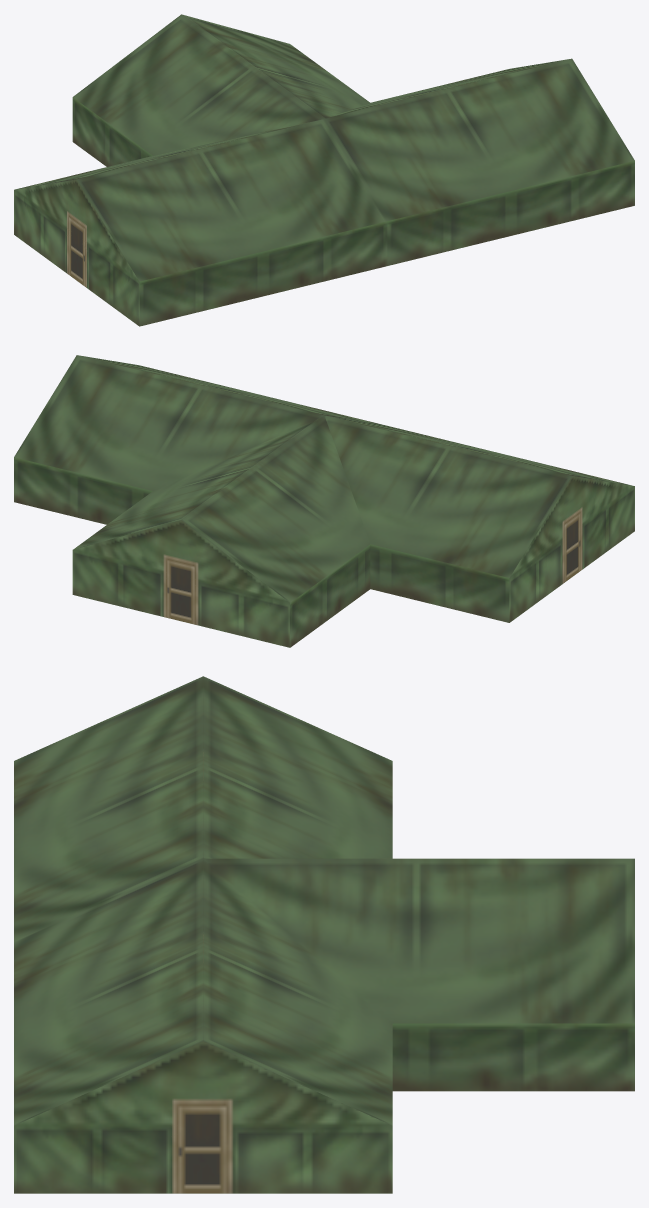
Rendered from hqtent.glb.
The picture shows the model from 3 angles, top to bottom: view 1: azimuth 30°, elevation 25°; view 2: azimuth 150°, elevation 25°; view 3: azimuth 270°, elevation 25°; orthographic projection. The views are drawn at different scales.
Visible parts, largest first — view 1: HQTent; view 2: HQTent; view 3: HQTent.
Part boxes in pixels (x1=…): HQTent: x1=14, y1=14, x2=634, y2=326; HQTent: x1=14, y1=355, x2=634, y2=647; HQTent: x1=14, y1=676, x2=634, y2=1193.
Bounding box in the file's own units: 16.18 × 3.16 × 11.64.
1 material, 1 textured.
